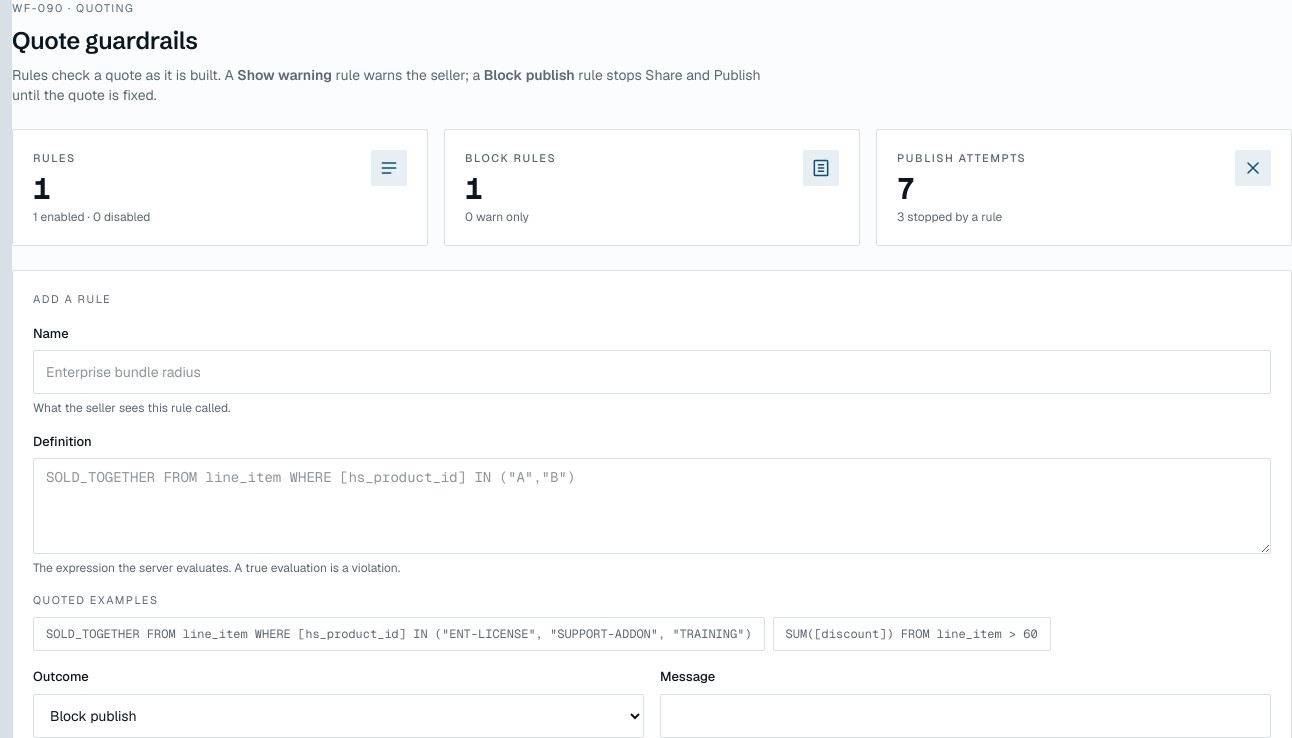
the page › asks the parser before saving and shows the normalised definition
Check: the heading "Quote guardrails" is shown, box x1=12 y1=26 x2=198 y2=55
Replace the text in the text box labelled "Definition" with "SUM([discount]) FROM line_item > 60": (652, 506) x1=33 y1=458 x2=1271 y2=554
(page scrolled)
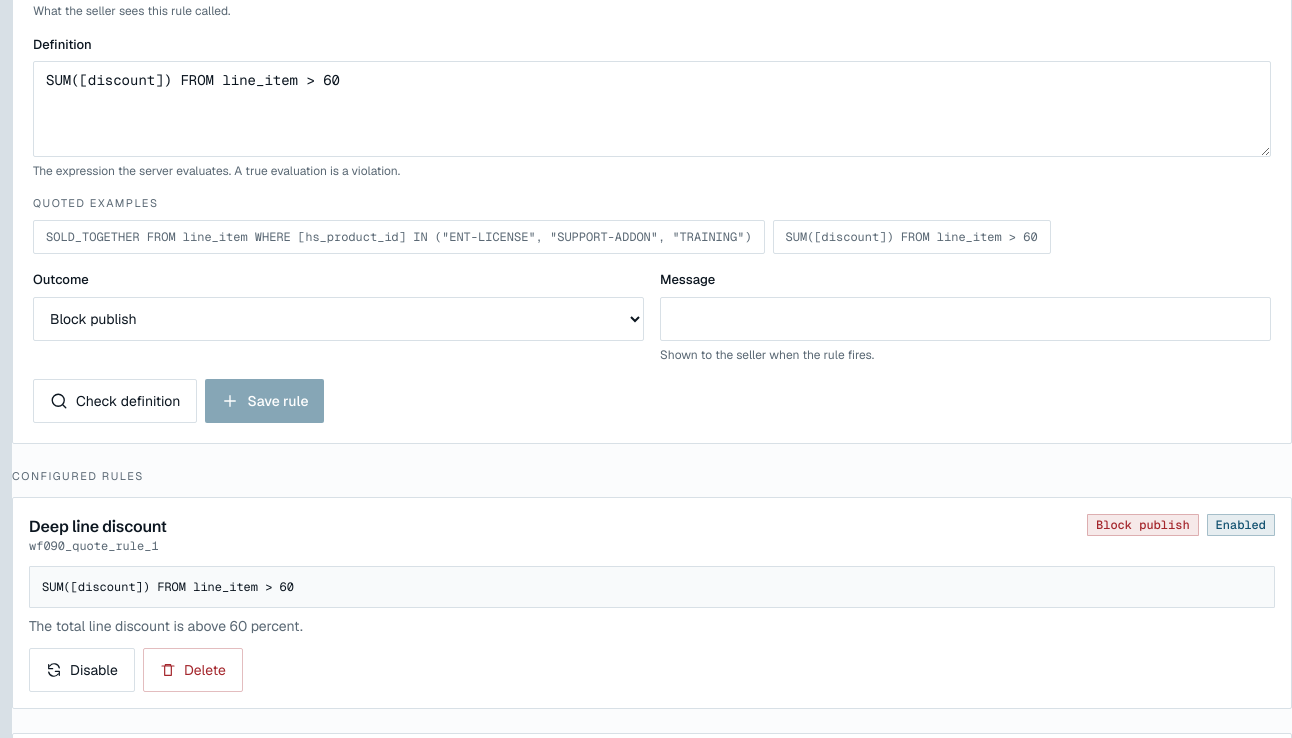
Click the button "Check definition": (115, 401) x1=33 y1=379 x2=197 y2=423
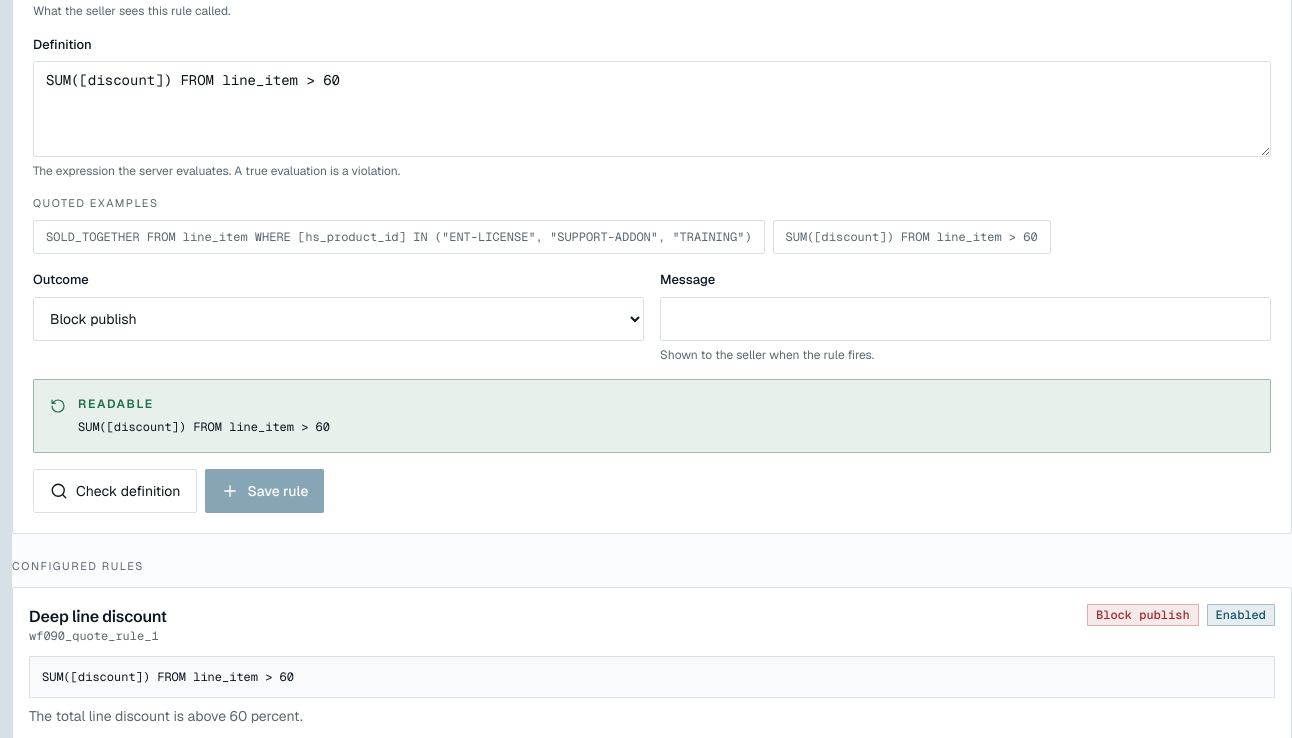
Check: the text "Readable" is shown, box x1=78 y1=396 x2=154 y2=412
